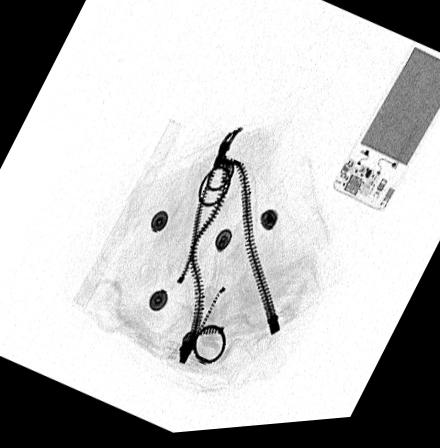Powerbank: (332, 50, 440, 220)
